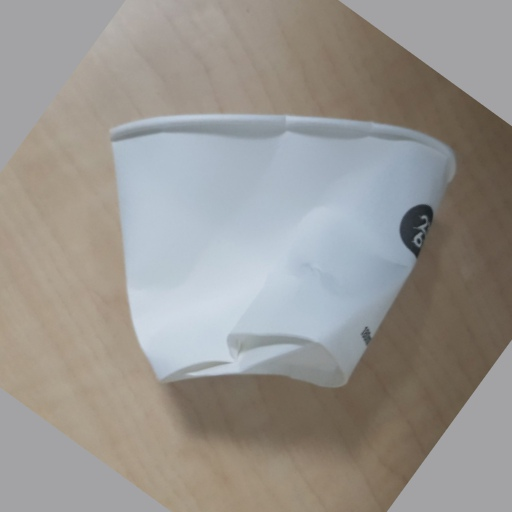Paper_1: (104, 114, 458, 392)
